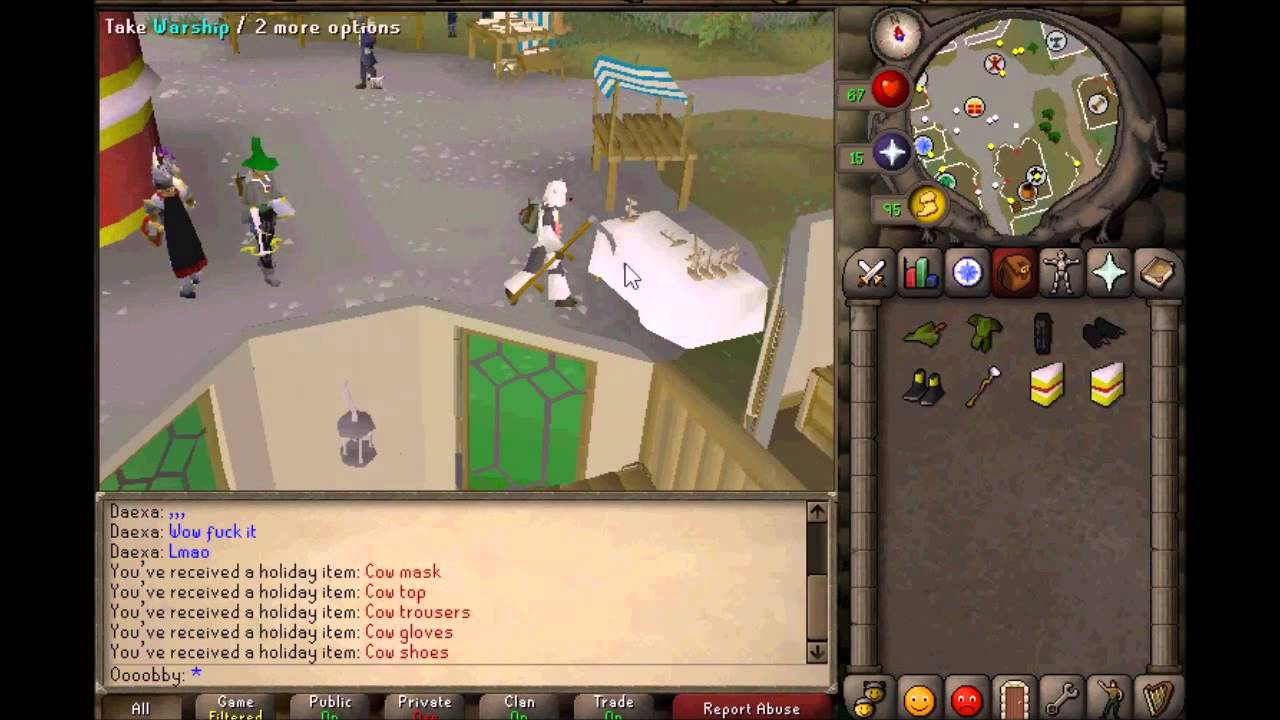rs_player: (138, 139, 210, 296), (229, 138, 292, 303), (515, 171, 574, 312)
